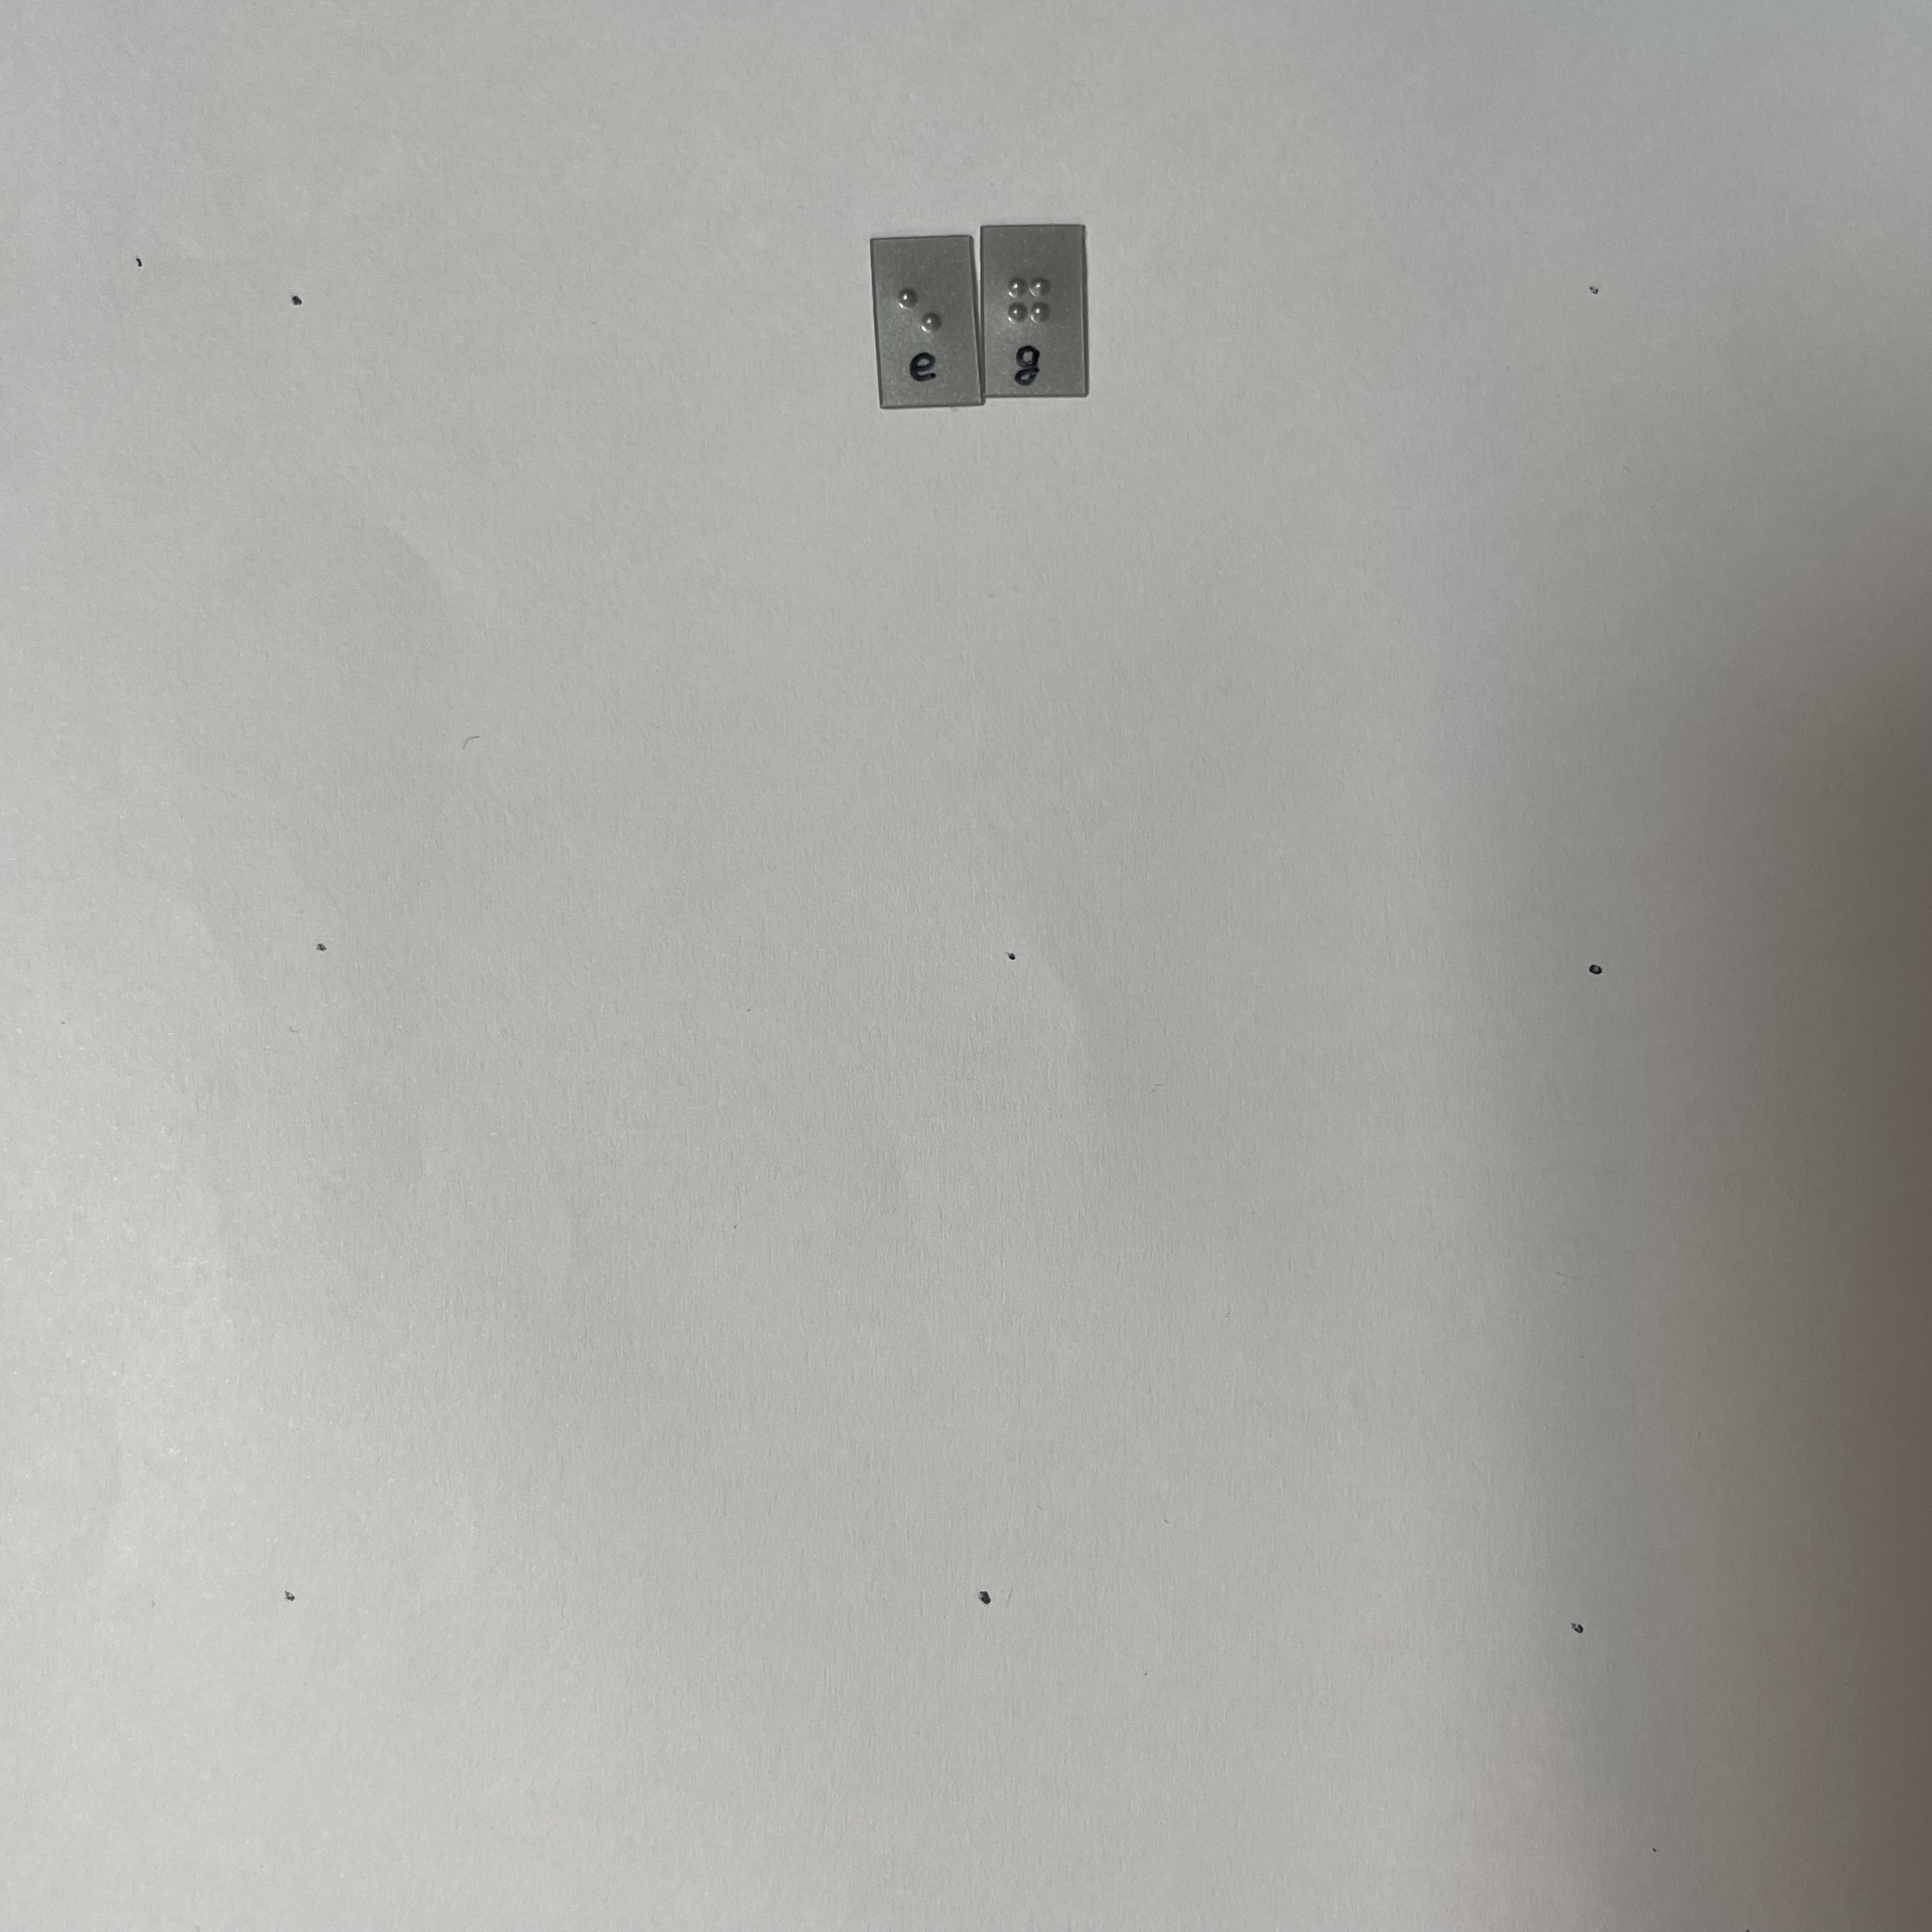e: (893, 273, 952, 356)
g: (1003, 264, 1058, 344)
